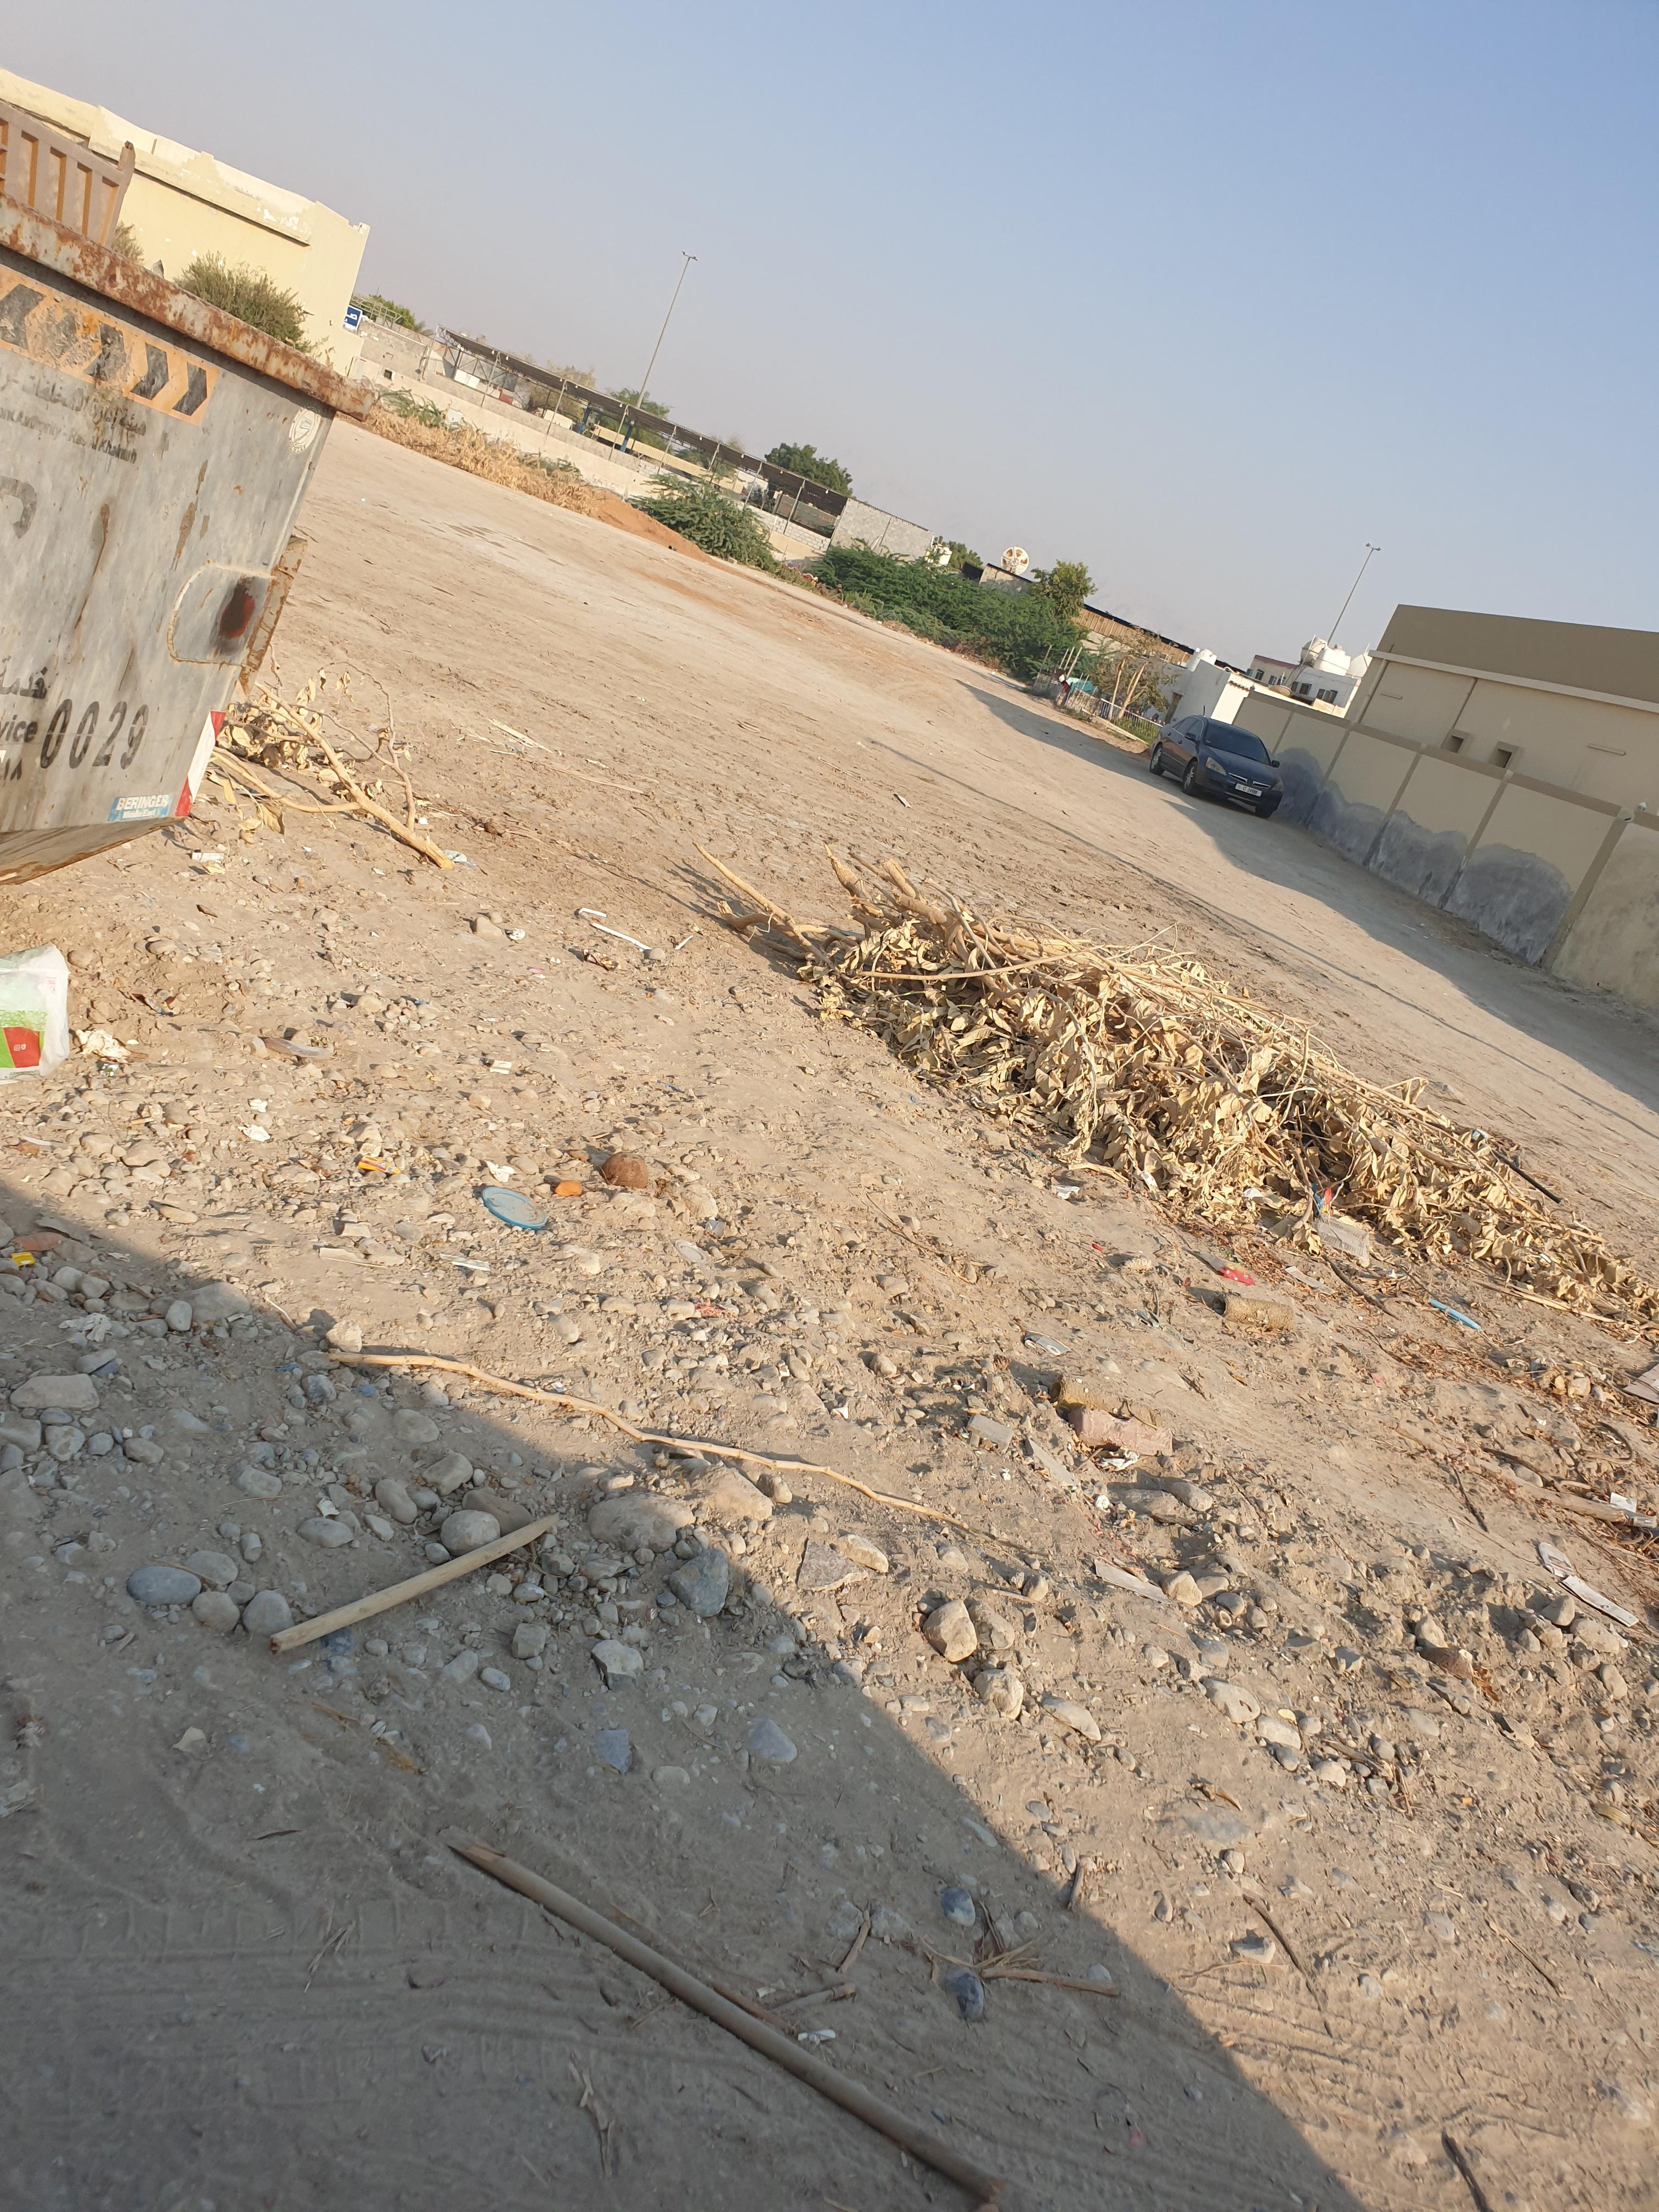fallen_trees: (795, 836, 1659, 1379), (701, 846, 1546, 1258), (939, 803, 1441, 1338)
